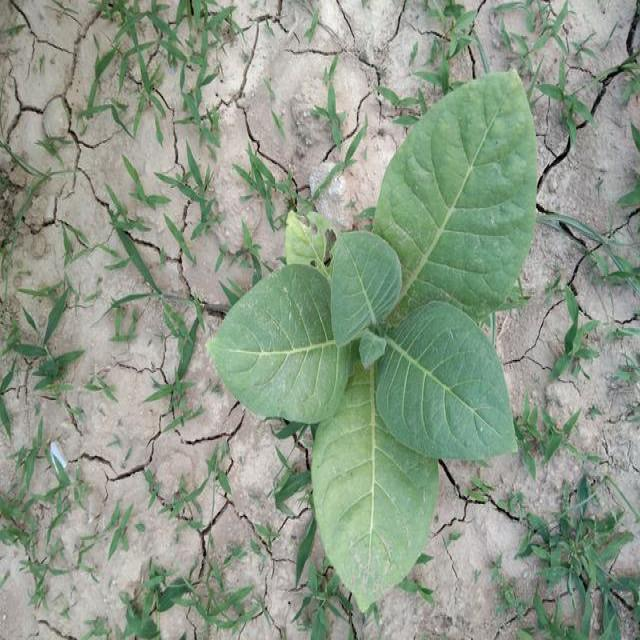crop: (215, 78, 532, 590)
